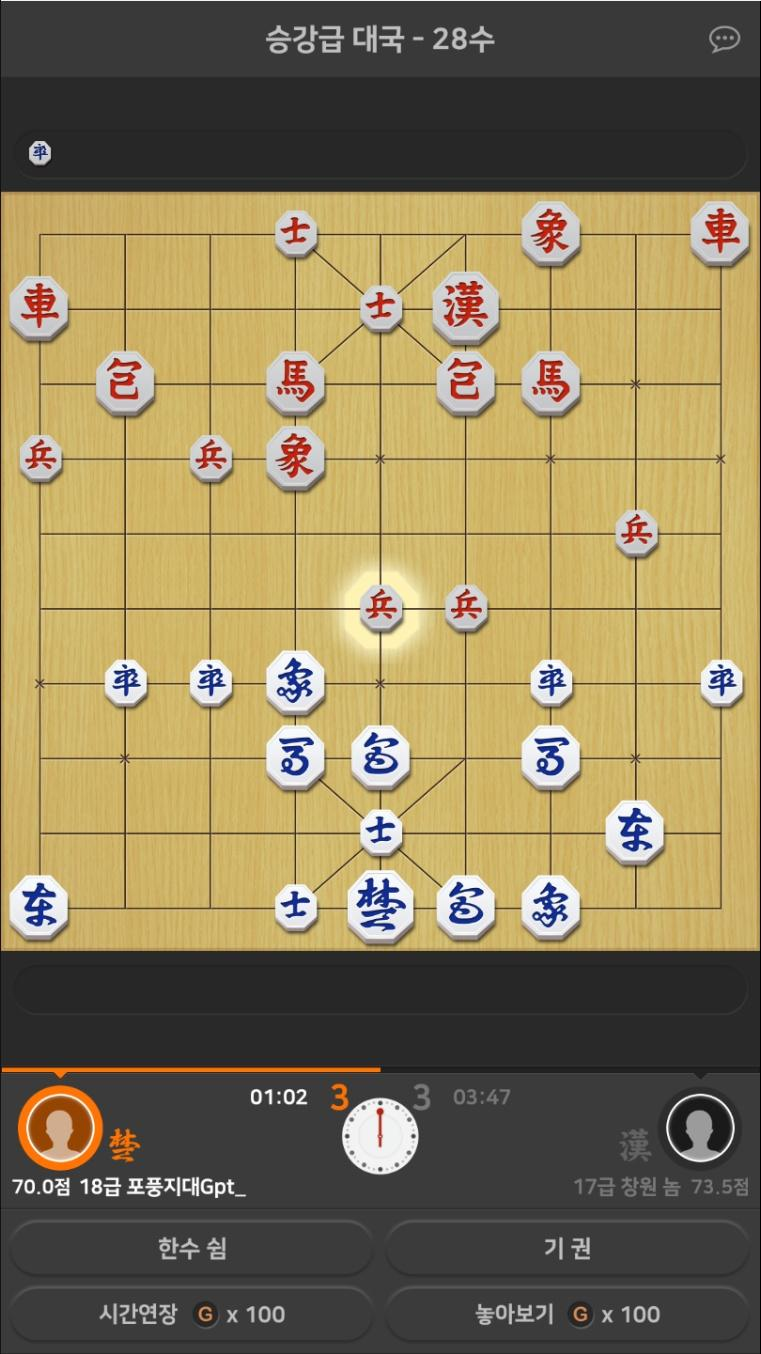cha_green: (606, 797, 666, 861), (12, 874, 68, 934)
cha_red: (690, 199, 749, 262), (10, 276, 68, 339)
jol_green: (698, 657, 745, 707), (103, 659, 149, 706), (189, 660, 231, 704), (530, 661, 573, 702)
jol_red: (445, 583, 486, 632), (362, 587, 404, 633), (191, 435, 232, 481), (21, 436, 62, 481), (621, 507, 660, 554)
ma_green: (523, 723, 580, 788), (266, 726, 327, 786)
ma_red: (522, 352, 580, 415), (268, 355, 324, 412)
po_green: (435, 873, 495, 937), (354, 727, 409, 792)
po_red: (436, 351, 495, 416), (98, 351, 152, 416)
sa_green: (361, 811, 403, 858), (277, 884, 317, 932)
sa_red: (359, 286, 402, 331), (276, 210, 316, 258)
sang_green: (522, 872, 579, 938), (265, 649, 324, 712)
sang_red: (268, 427, 323, 487), (522, 205, 579, 260)
wang_green: (348, 872, 410, 942)
wang_red: (429, 269, 504, 342)
